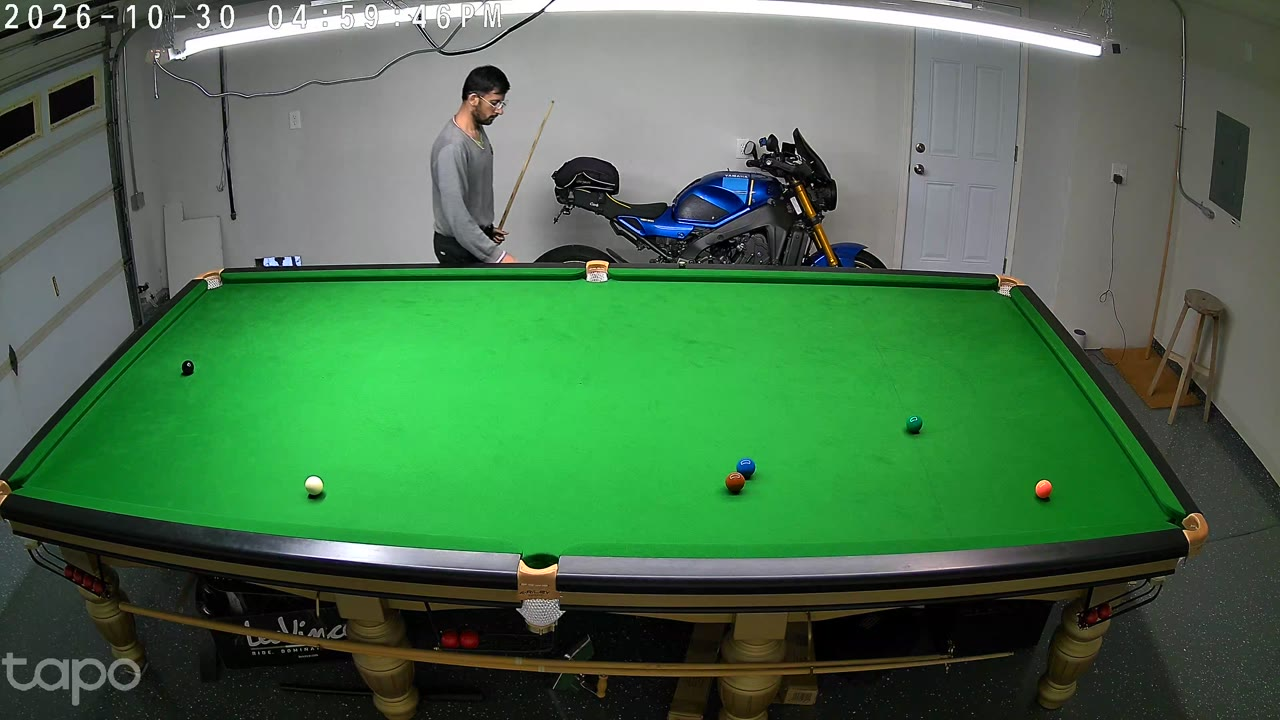black: (182, 358, 194, 378)
blue: (736, 455, 756, 482)
brown: (725, 471, 743, 496)
green: (906, 414, 922, 436)
pink: (1035, 477, 1052, 502)
white: (305, 474, 324, 500)
